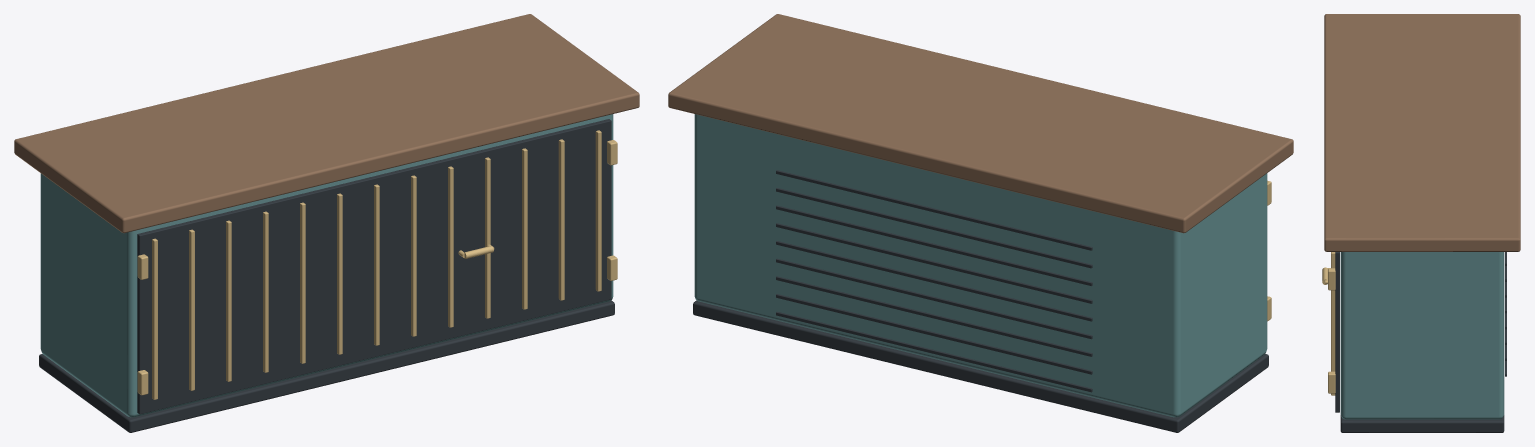
File: concession-counter.glb
3 views of the same model, side by side, from view 1: azimuth 30°, elevation 25°; view 2: azimuth 150°, elevation 25°; view 3: azimuth 270°, elevation 25° (orthographic). The views are drawn at different scales.
Parts seen in each view (by area): view 1: abandoned-cinema-and-projection-booth-concession-counter; view 2: abandoned-cinema-and-projection-booth-concession-counter; view 3: abandoned-cinema-and-projection-booth-concession-counter.
Boxes of the visible parts, x1=… form: abandoned-cinema-and-projection-booth-concession-counter: x1=14, y1=14, x2=639, y2=432; abandoned-cinema-and-projection-booth-concession-counter: x1=668, y1=14, x2=1293, y2=432; abandoned-cinema-and-projection-booth-concession-counter: x1=1322, y1=14, x2=1520, y2=432.
Bounding box in the file's own units: 2.45 × 1.02 × 0.909.
